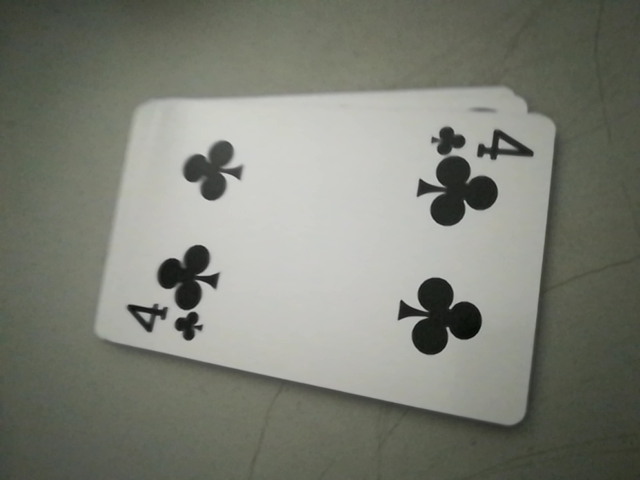mh 4: (429, 118, 538, 164), (114, 298, 210, 350)
